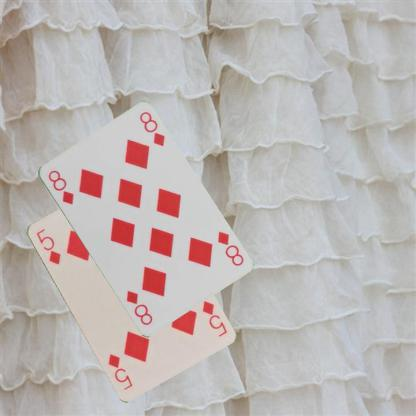5d: (33, 225, 62, 266), (199, 297, 228, 338)
8d: (214, 228, 244, 268), (45, 167, 75, 206)
